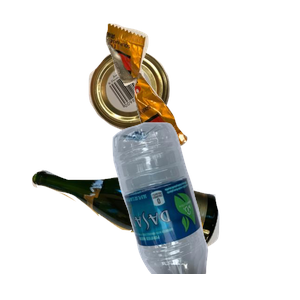glass: (29, 167, 241, 300)
metal: (86, 46, 248, 169)
plastic: (110, 120, 300, 300)
trash: (103, 21, 300, 174)
